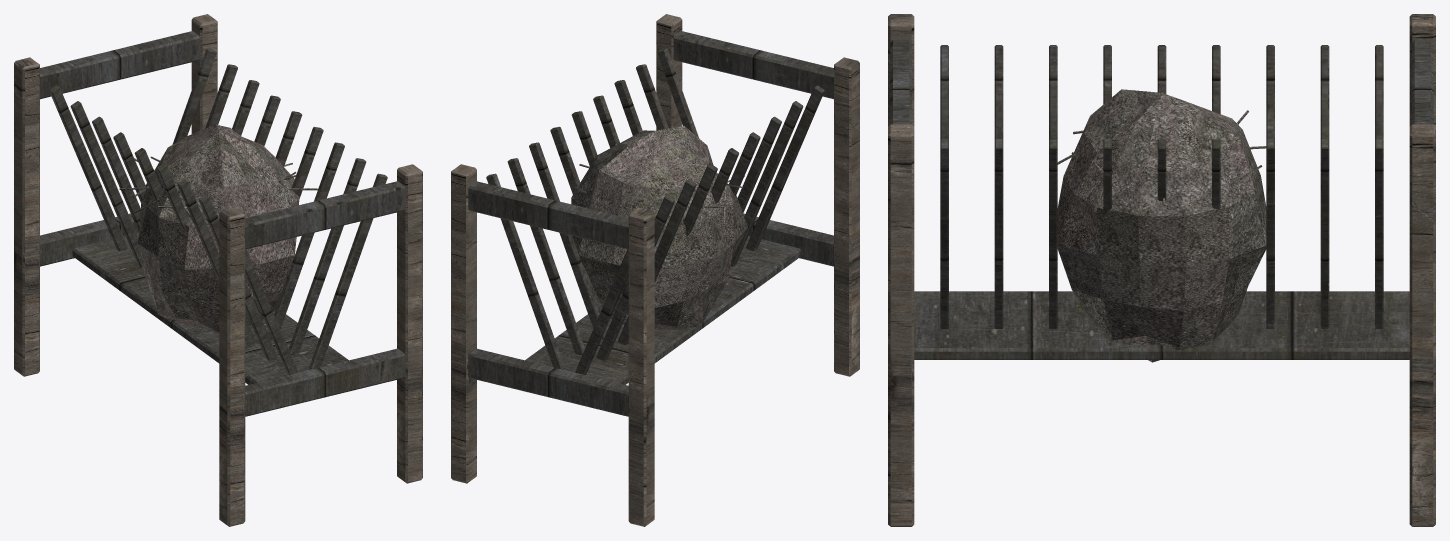
File: sheep_hay_rack_a.glb
The picture shows the model from 3 angles, left to right: view 1: azimuth 30°, elevation 25°; view 2: azimuth 150°, elevation 25°; view 3: azimuth 270°, elevation 25°; orthographic projection. The views are drawn at different scales.
Parts seen in each view (by area): view 1: sheep_hay_rack_a_LOD0; view 2: sheep_hay_rack_a_LOD0; view 3: sheep_hay_rack_a_LOD0.
Boxes of the visible parts, bbox=[...] form: sheep_hay_rack_a_LOD0: bbox=[14, 14, 422, 526]; sheep_hay_rack_a_LOD0: bbox=[451, 14, 859, 526]; sheep_hay_rack_a_LOD0: bbox=[888, 14, 1435, 526].
Size of what is drawn, in the model's own units: 0.66 by 1 by 1.26.
3 materials, 3 textured.
